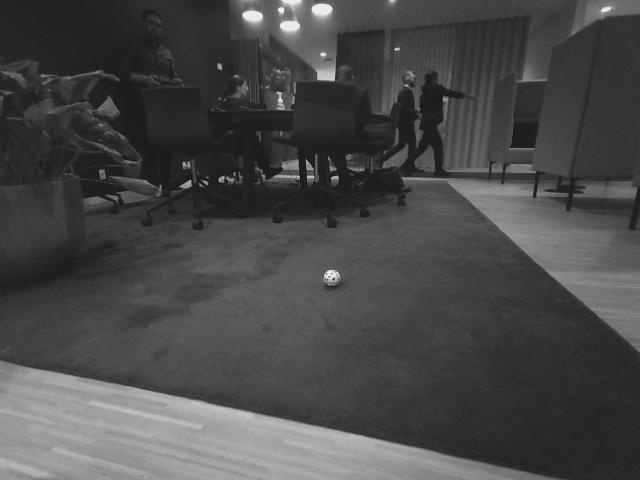dogtoy: (319, 264, 345, 291)
